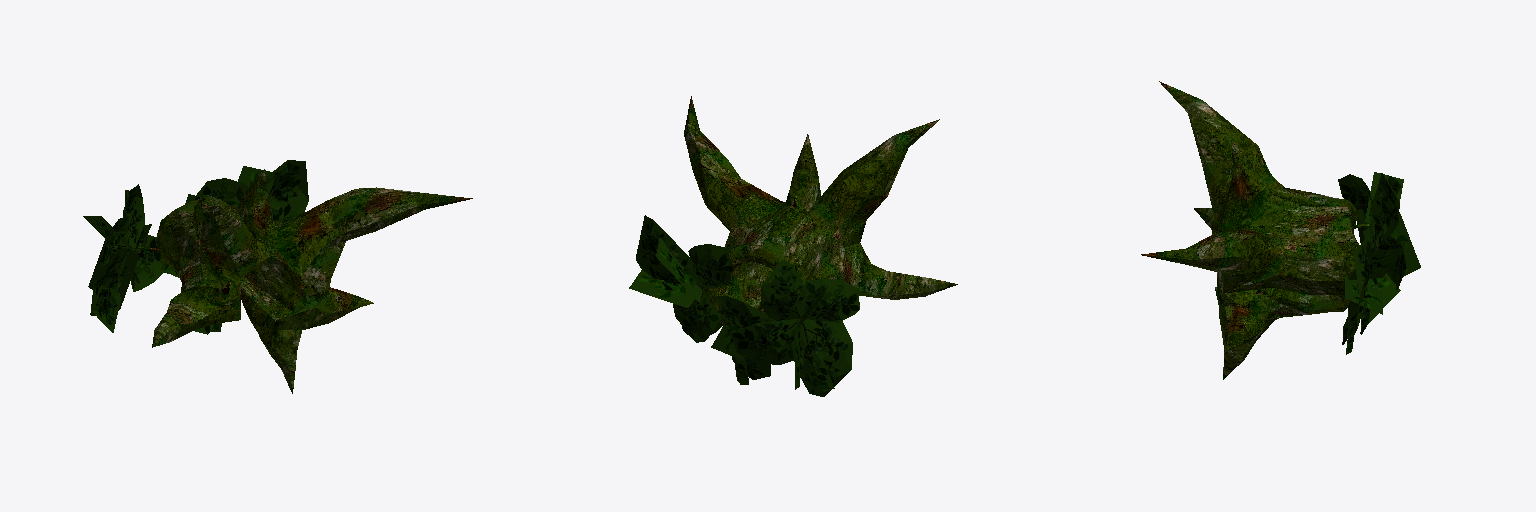
3 renders of one model, left to right at view 1: azimuth 30°, elevation 25°; view 2: azimuth 150°, elevation 25°; view 3: azimuth 270°, elevation 25°, orthographic.
Parts seen in each view (by area): view 1: pCylinder124__Mt_Wood_MossWood_A, pPlane26__Plant_TreeLeaf_B; view 2: pCylinder124__Mt_Wood_MossWood_A, pPlane26__Plant_TreeLeaf_B; view 3: pCylinder124__Mt_Wood_MossWood_A, pPlane26__Plant_TreeLeaf_B.
Part boxes in pixels (left/top/right/bottom): pCylinder124__Mt_Wood_MossWood_A: left=135, top=169, right=472, bottom=393; pPlane26__Plant_TreeLeaf_B: left=83, top=160, right=308, bottom=334; pCylinder124__Mt_Wood_MossWood_A: left=684, top=96, right=957, bottom=323; pPlane26__Plant_TreeLeaf_B: left=629, top=215, right=859, bottom=396; pCylinder124__Mt_Wood_MossWood_A: left=1141, top=81, right=1368, bottom=379; pPlane26__Plant_TreeLeaf_B: left=1338, top=172, right=1420, bottom=354.
Bounding box in the file's own units: 8.96 × 6.98 × 7.44.
Materials: 3 (2 with a texture image).